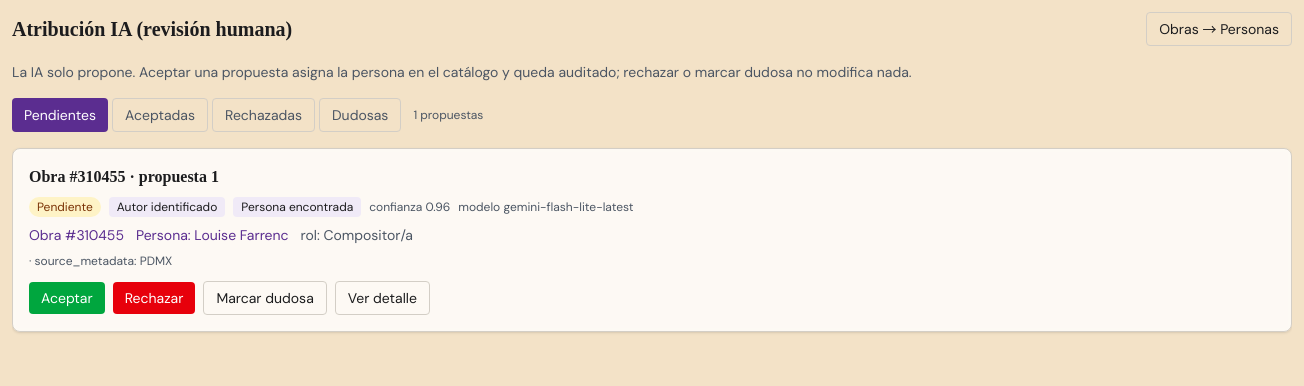
it: AdminWorkPersonAiPage › aceptar una propuesta sin persona resuelta avisa sin asignar
The width and height of the screenshot is (1304, 386).
What coordinates should you click on to do the following:
click the button "Aceptar"
I would click on:
 (67, 298)
Its box is [29,282,105,314].
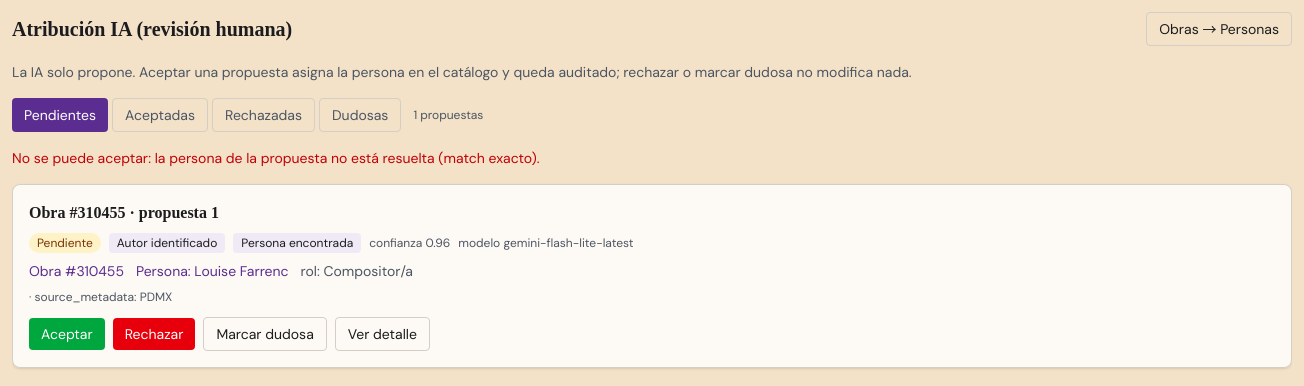
Expected: the text "no está resuelta" is shown, [12,149,540,167]
